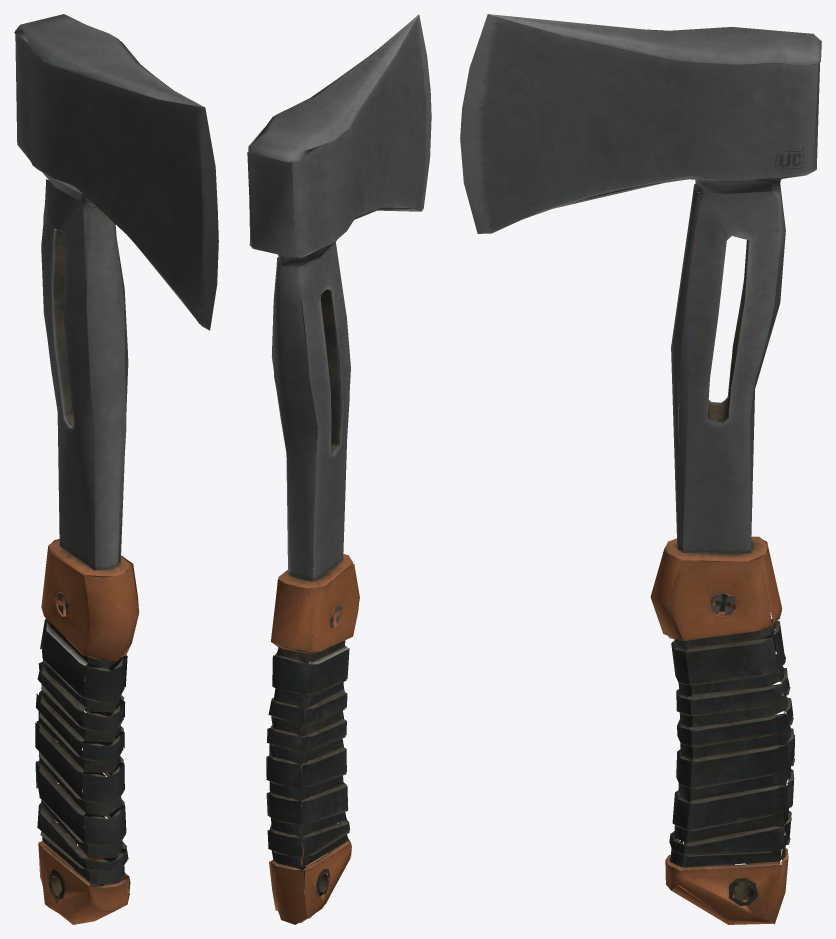
File: hatchet.glb
The picture shows the model from 3 angles, left to right: view 1: azimuth 30°, elevation 25°; view 2: azimuth 150°, elevation 25°; view 3: azimuth 270°, elevation 25°; orthographic projection. The views are drawn at different scales.
Parts seen in each view (by area): view 1: hatchet; view 2: hatchet; view 3: hatchet.
Part boxes in pixels (<box>): hatchet: <box>14,14,218,924</box>; hatchet: <box>247,14,431,924</box>; hatchet: <box>460,14,821,924</box>.
Size of the model in its own units: 0.0261 by 0.2884 by 0.1043.
1 material, 1 textured.
